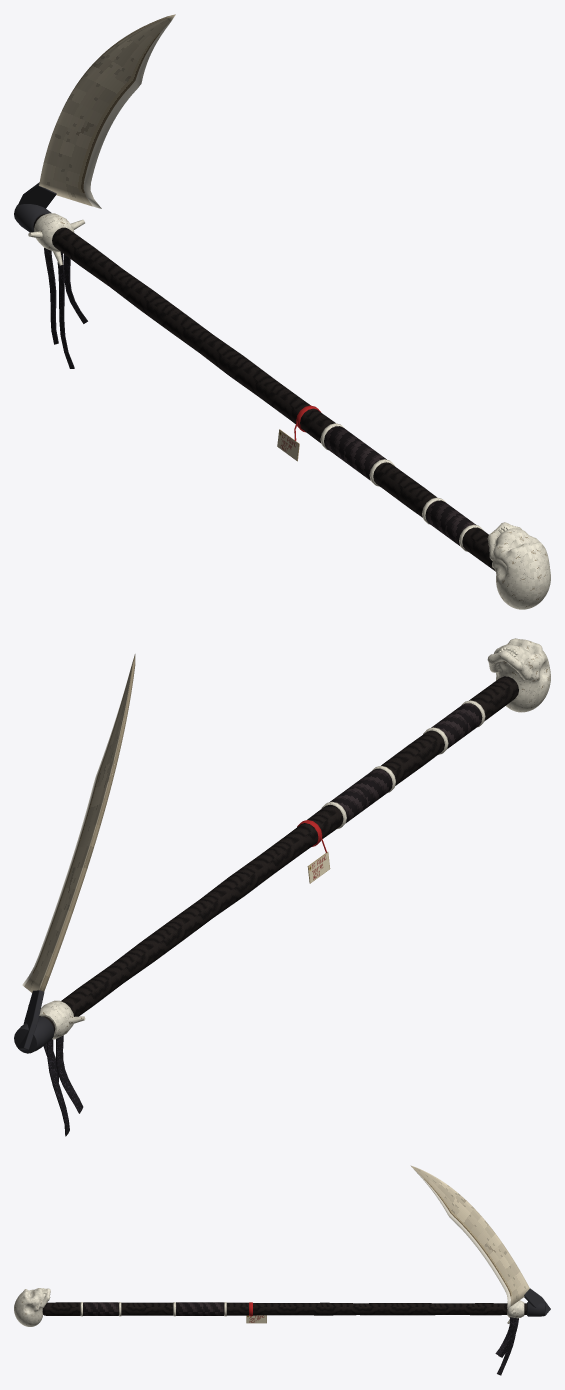
File: w_scythe_reaper.glb
3 views of the same model, one above another, from view 1: azimuth 30°, elevation 25°; view 2: azimuth 150°, elevation 25°; view 3: azimuth 270°, elevation 25° (orthographic). The views are drawn at different scales.
Parts seen in each view (by area): view 1: reaper_body_wzA, reaperblade_wzB, reaper_body_wzN; view 2: reaper_body_wzA, reaperblade_wzB, reaper_body_wzN, reaper_body_wzB; view 3: reaper_body_wzA, reaperblade_wzB, reaper_body_wzN.
Boxes of the visible parts, bbox=[...] form: reaper_body_wzA: bbox=[33, 214, 550, 609]; reaperblade_wzB: bbox=[18, 14, 175, 208]; reaper_body_wzN: bbox=[28, 213, 321, 461]; reaper_body_wzA: bbox=[42, 638, 550, 1032]; reaperblade_wzB: bbox=[18, 654, 135, 1050]; reaper_body_wzN: bbox=[28, 820, 330, 1136]; reaper_body_wzB: bbox=[14, 1016, 54, 1053]; reaper_body_wzA: bbox=[14, 1288, 526, 1326]; reaperblade_wzB: bbox=[410, 1165, 550, 1315]; reaper_body_wzN: bbox=[246, 1300, 524, 1375].
Size of the model in its own units: 0.1293 by 0.7545 by 1.71.
12 materials, 7 textured.
